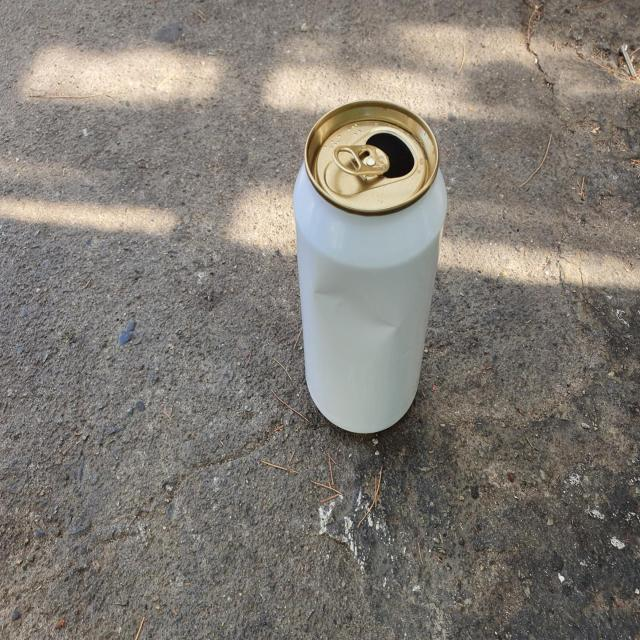can: (294, 100, 447, 433)
